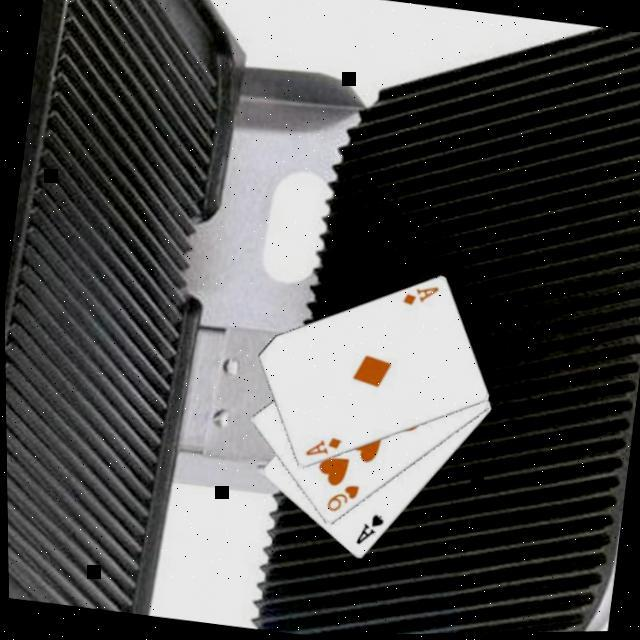9H: (322, 478, 363, 518)
AD: (301, 432, 344, 464), (399, 280, 442, 312)
AS: (350, 509, 388, 552)
